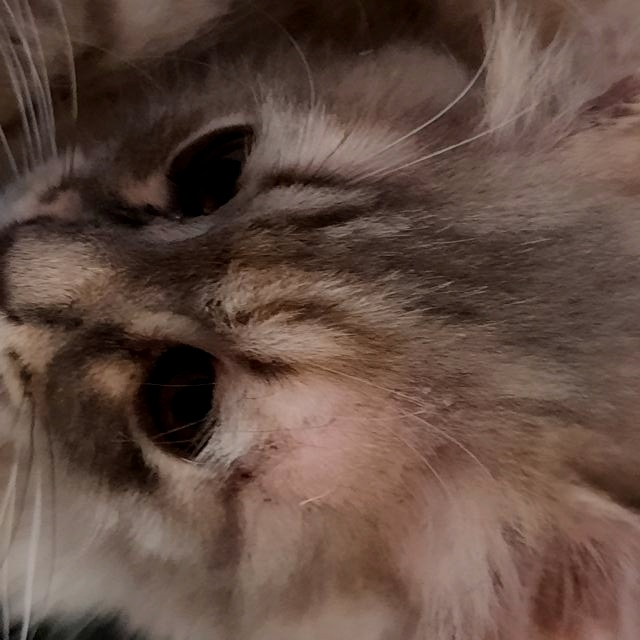hairloss: (234, 378, 345, 465)
